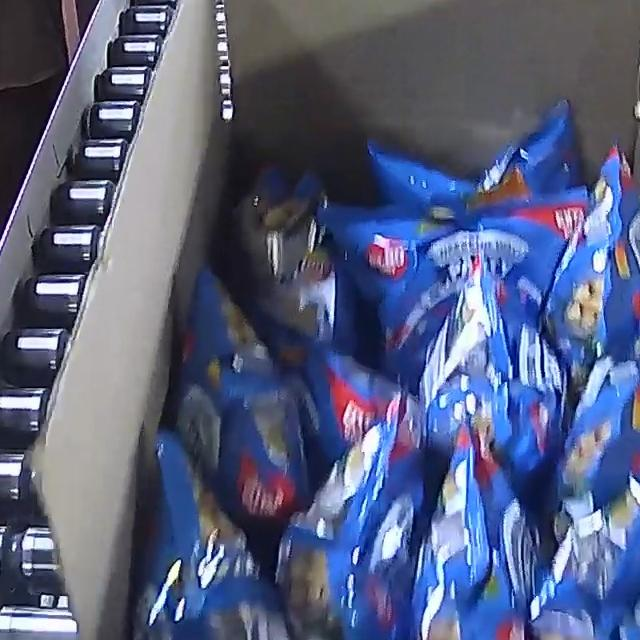paprika: (125, 95, 640, 640)
